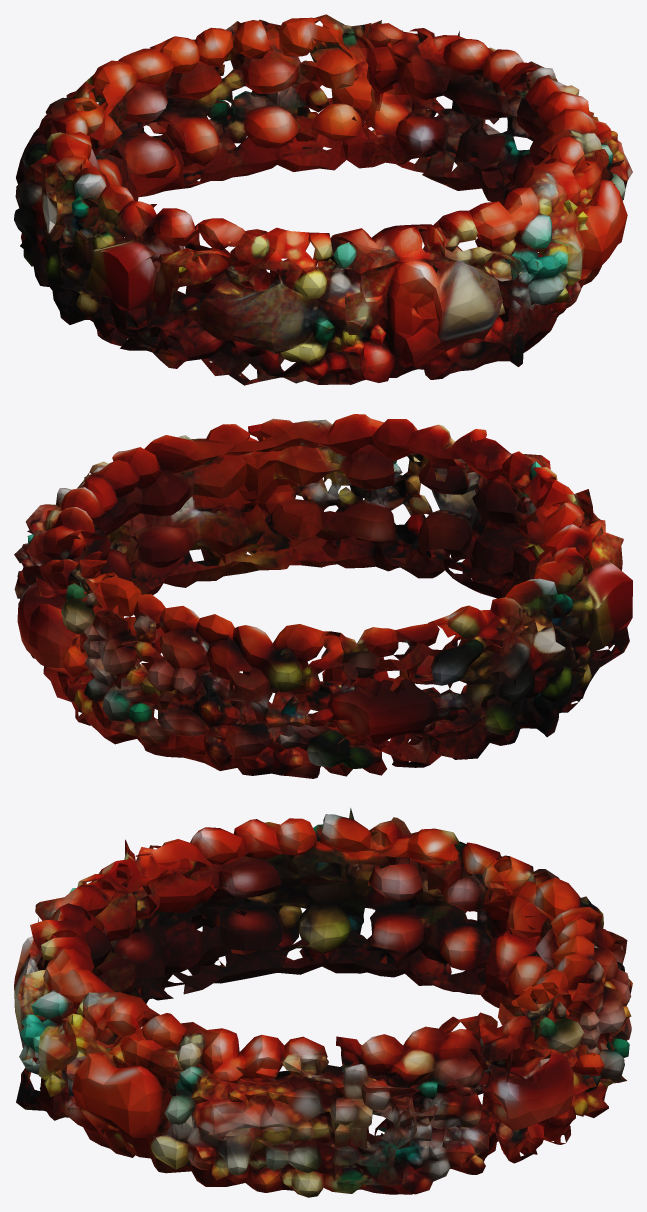
File: coral-bead-bracelet-art-deco.jpeg.glb
3 renders of one model, top to bottom at view 1: azimuth 30°, elevation 25°; view 2: azimuth 150°, elevation 25°; view 3: azimuth 270°, elevation 25°, orthographic. The views are drawn at different scales.
Parts seen in each view (by area): view 1: world; view 2: world; view 3: world.
Part boxes in pixels (x1=…): world: x1=14, y1=14, x2=632, y2=385; world: x1=14, y1=414, x2=632, y2=778; world: x1=14, y1=808, x2=632, y2=1197.
Bounding box in the file's own units: 1 × 0.2848 × 0.9998.
Materials: 1 (1 with a texture image).
